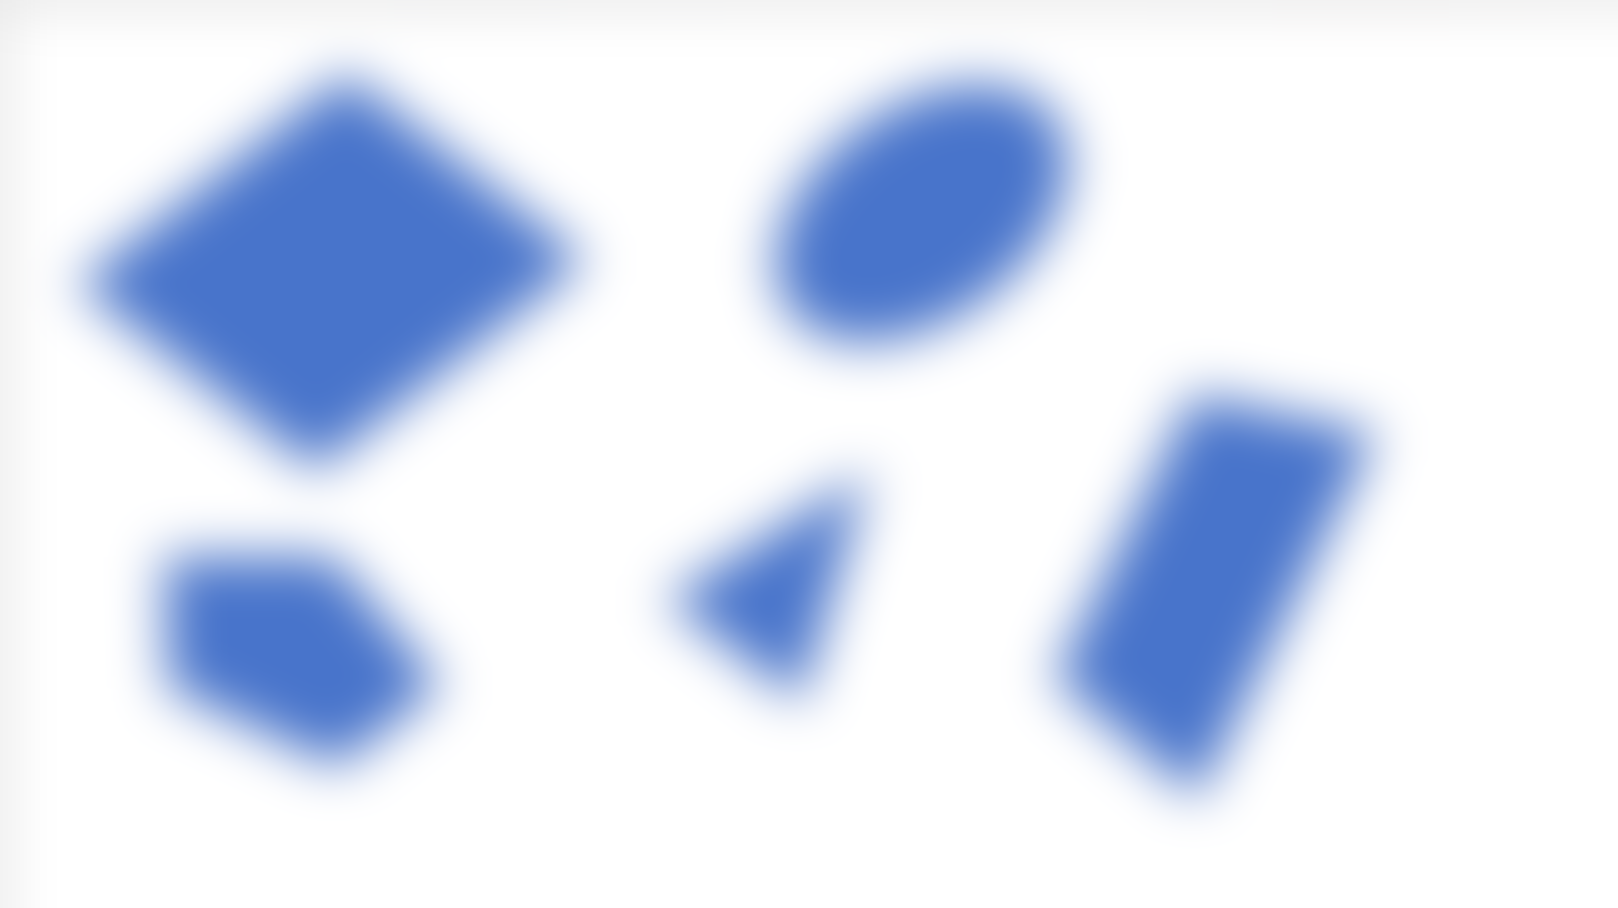circle: (757, 39, 1089, 370)
parallelogram: (60, 47, 598, 469)
pentagon: (130, 527, 485, 791)
trapezium: (1026, 363, 1390, 805)
triangle: (661, 463, 885, 697)
